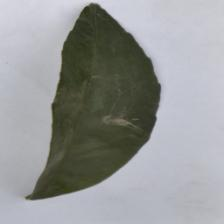healthy: (24, 2, 162, 202)
